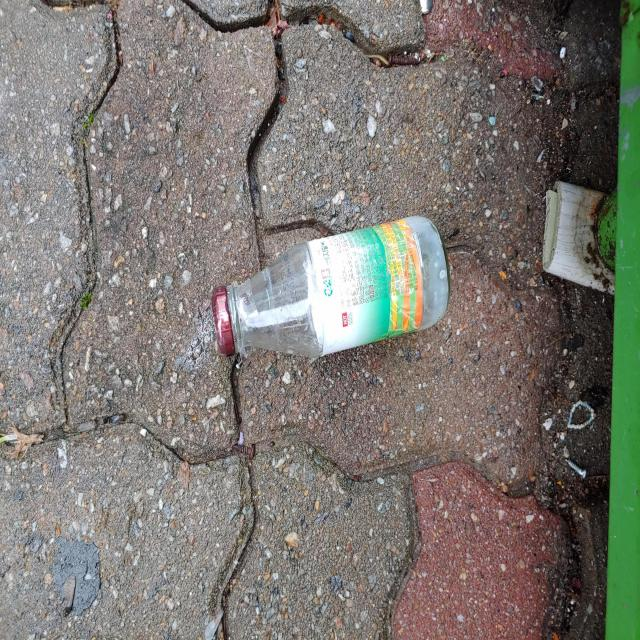glass: (213, 216, 450, 357)
